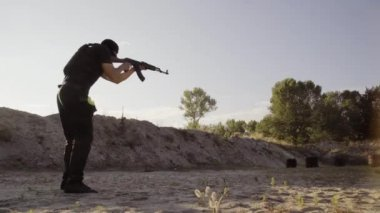rifle: (103, 57, 173, 81)
